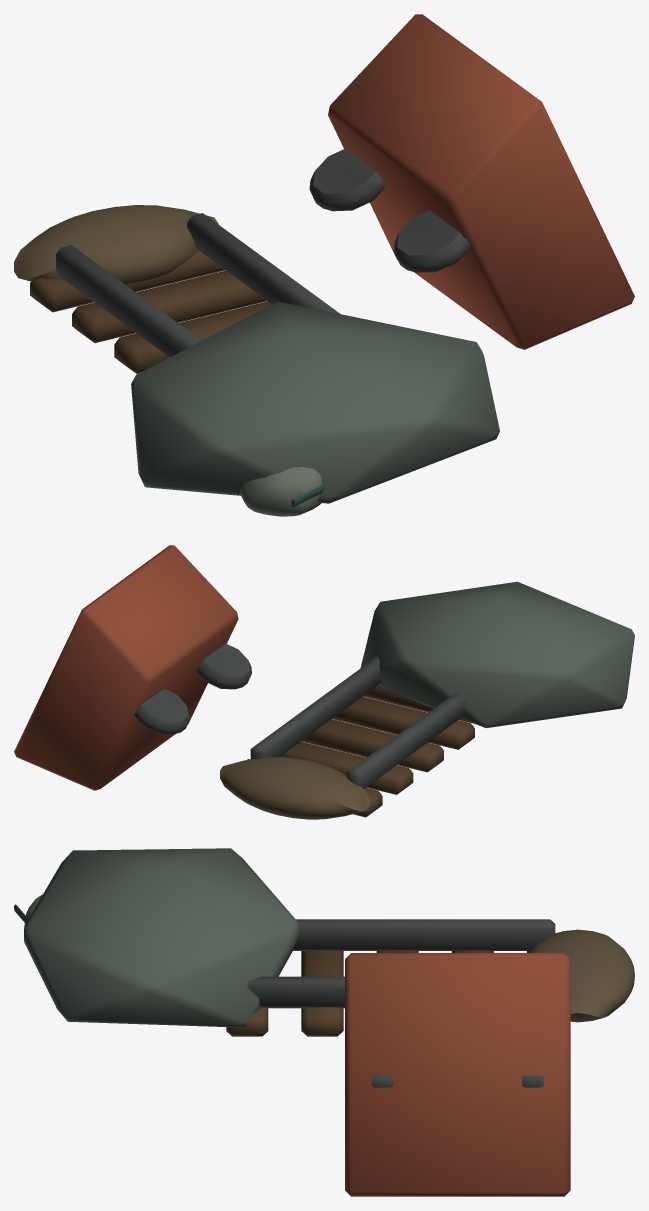
Rendered from ore_cart_stub_b.glb.
3 views of the same model, one above another, from view 1: azimuth 30°, elevation 25°; view 2: azimuth 150°, elevation 25°; view 3: azimuth 270°, elevation 25° (orthographic). The views are drawn at different scales.
Parts seen in each view (by area): view 1: Surface; view 2: Surface; view 3: Surface.
Part boxes in pixels (x1,y1,x2,y2): Surface: (14,14,634,516); Surface: (14,545,634,819); Surface: (14,848,634,1196).
Size of the model in its own units: 4.15 by 1.61 by 4.13.
